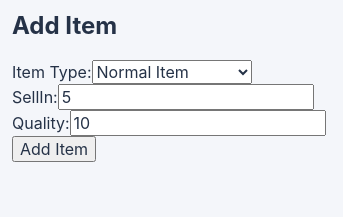
Scenario: does not add an item when SellIn is empty
This screenshot has width=343, height=217.
Clear the number field labelled "SellIn:" at [186, 97], box [58,84,314,110]
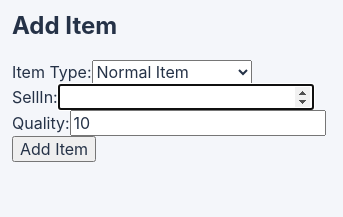
Click the button "Add Item" at [54, 149], box [12,136,96,162]
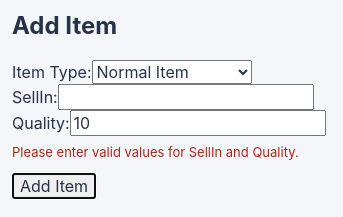
Check: the message shows "Please enter valid values", box [12,144,299,160]
